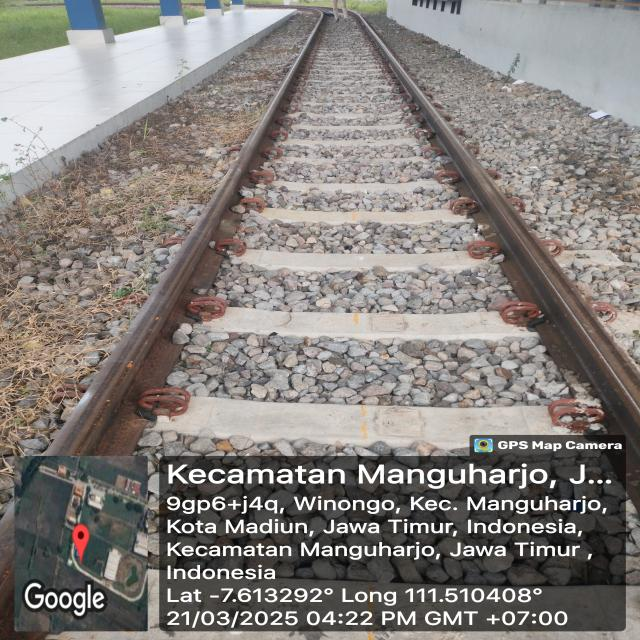rail-detection: (350, 13, 640, 508), (49, 10, 325, 455)
